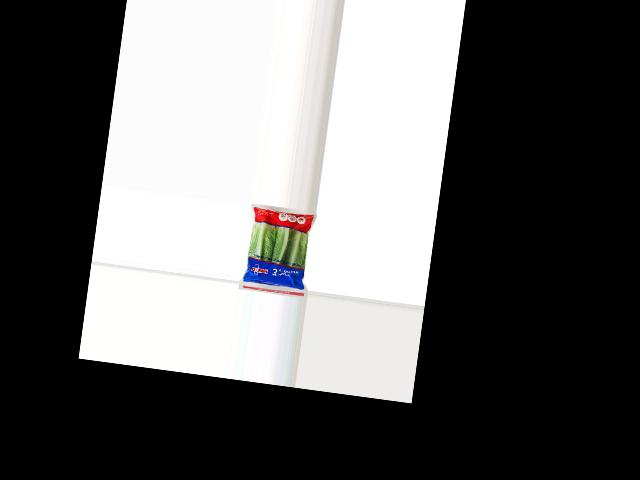lettuce: (242, 203, 315, 291)
